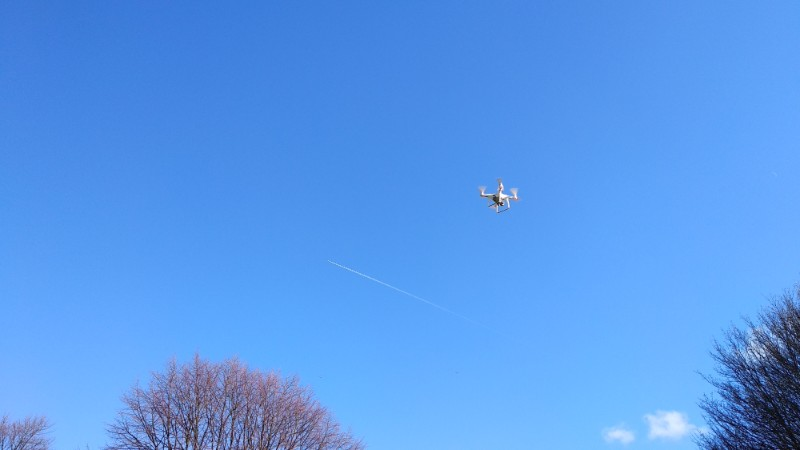drone: (477, 178, 520, 214)
